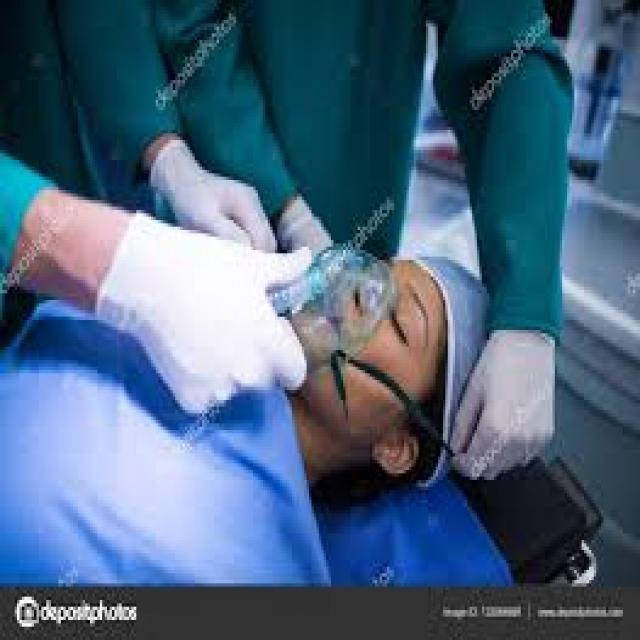oxygen_mask: (259, 252, 417, 395)
